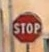stop: (11, 10, 41, 42)
